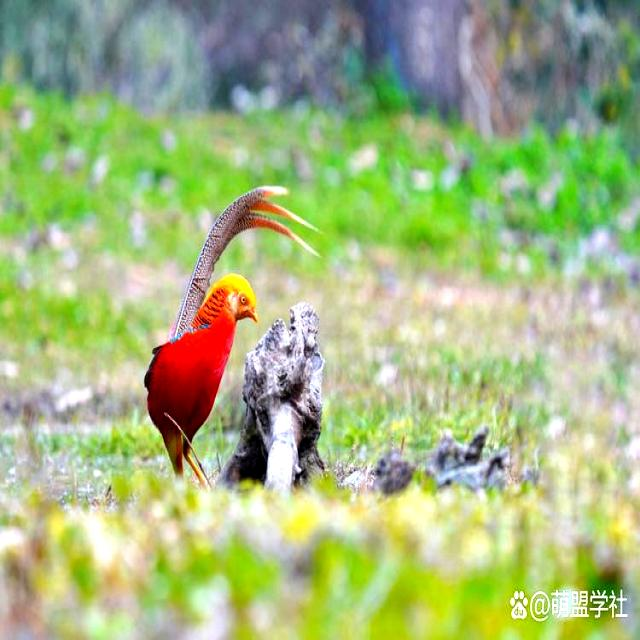Chrysolophus pictus feather: (170, 187, 325, 344)
